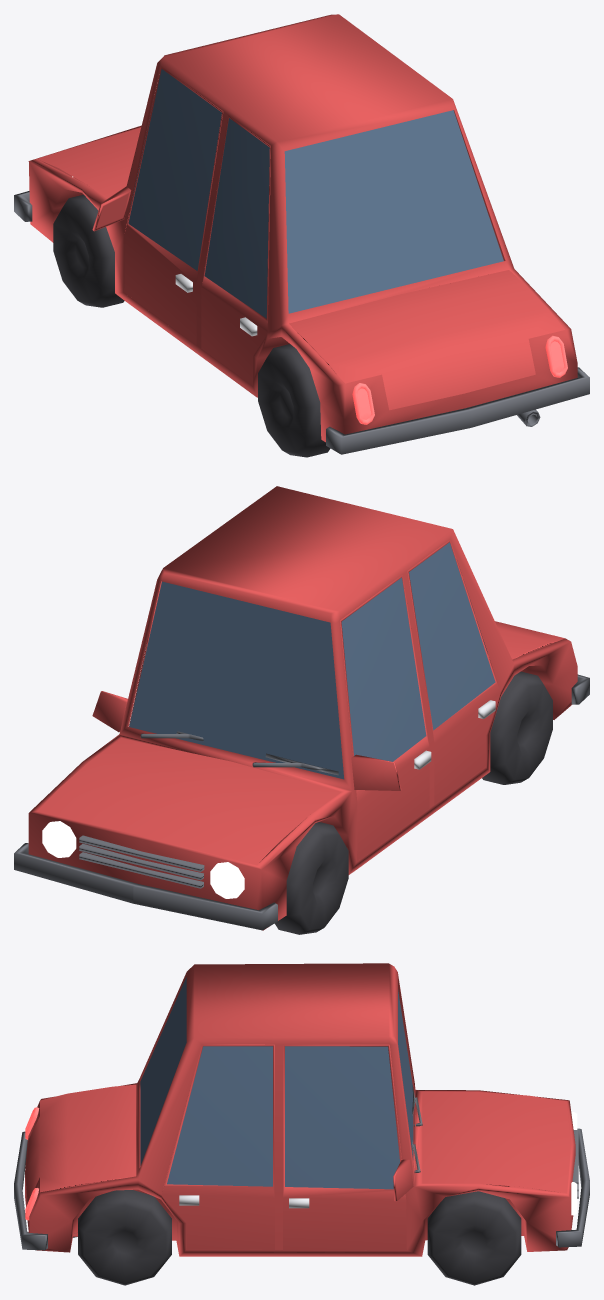
File: cv-sedan.glb
3 views of the same model, one above another, from view 1: azimuth 30°, elevation 25°; view 2: azimuth 150°, elevation 25°; view 3: azimuth 270°, elevation 25° (orthographic). The views are drawn at different scales.
Parts seen in each view (by area): view 1: CarMesh, WindowRear.1, Trunk, Glass.2, Glass, ID43, WheelRL, BumperBack, WheelFL, ID16, Hood; view 2: CarMesh, WindowFront.1, Hood, Glass.2, Glass, BumperFront, WheelRL, WheelFL, ID43, ID16, Grille, ID336 (+4 smaller); view 3: CarMesh, Glass.4, Hood, Glass.3, Trunk, ID97, WheelRR, WheelFR, ID70, WindowRear.1, BumperBack, BumperFront (+2 smaller).
Boxes of the visible parts, x1,y1,x2,y2 form: CarMesh: (28, 14, 577, 442); WindowRear.1: (284, 110, 503, 313); Trunk: (289, 270, 564, 410); Glass.2: (128, 69, 221, 270); Glass: (204, 118, 269, 318); ID43: (124, 66, 223, 344); WheelRL: (258, 344, 330, 457); BumperBack: (326, 367, 589, 454); WheelFL: (53, 194, 124, 307); ID16: (201, 115, 270, 385); Hood: (37, 128, 140, 198); CarMesh: (28, 486, 577, 930); WindowFront.1: (129, 581, 344, 779); Hood: (37, 738, 340, 864); Glass.2: (341, 577, 426, 761); Glass: (409, 542, 495, 730); BumperFront: (14, 843, 277, 930); WheelRL: (482, 671, 552, 784); WheelFL: (274, 822, 348, 934); ID43: (340, 575, 429, 861); ID16: (407, 540, 500, 804); Grille: (79, 835, 204, 888); ID336: (92, 691, 401, 790); CarMesh: (25, 963, 575, 1256); Glass.4: (285, 1046, 400, 1189); Hood: (422, 1092, 570, 1193); Glass.3: (167, 1046, 272, 1186); Trunk: (25, 1084, 136, 1202); ID97: (283, 1044, 406, 1250); WheelRR: (78, 1190, 171, 1285); WheelFR: (427, 1191, 521, 1285); ID70: (161, 1044, 274, 1249); WindowRear.1: (140, 977, 186, 1165); BumperBack: (14, 1131, 47, 1250); BumperFront: (556, 1128, 589, 1247).
Size of the model in its own units: 2.19 by 1.89 by 4.16.
